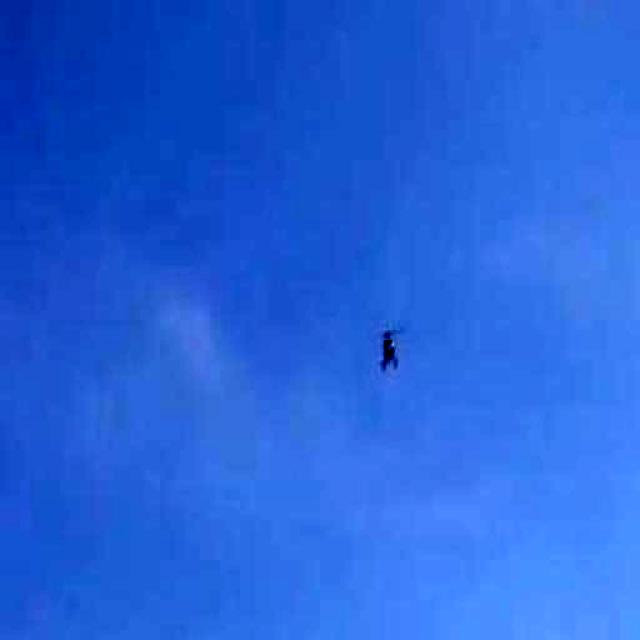drone: (330, 250, 472, 434)
